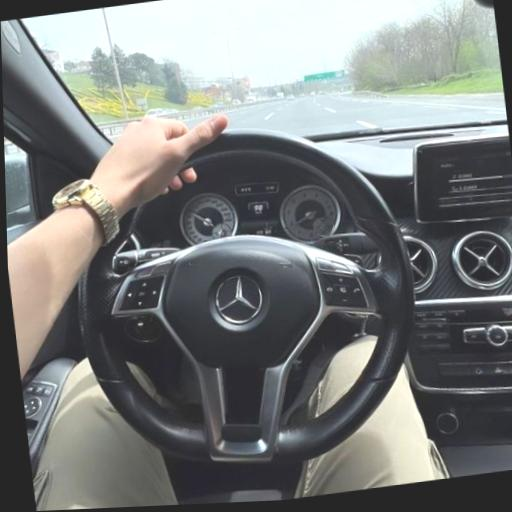Hands-on-the-Wheel: (39, 83, 277, 256)
